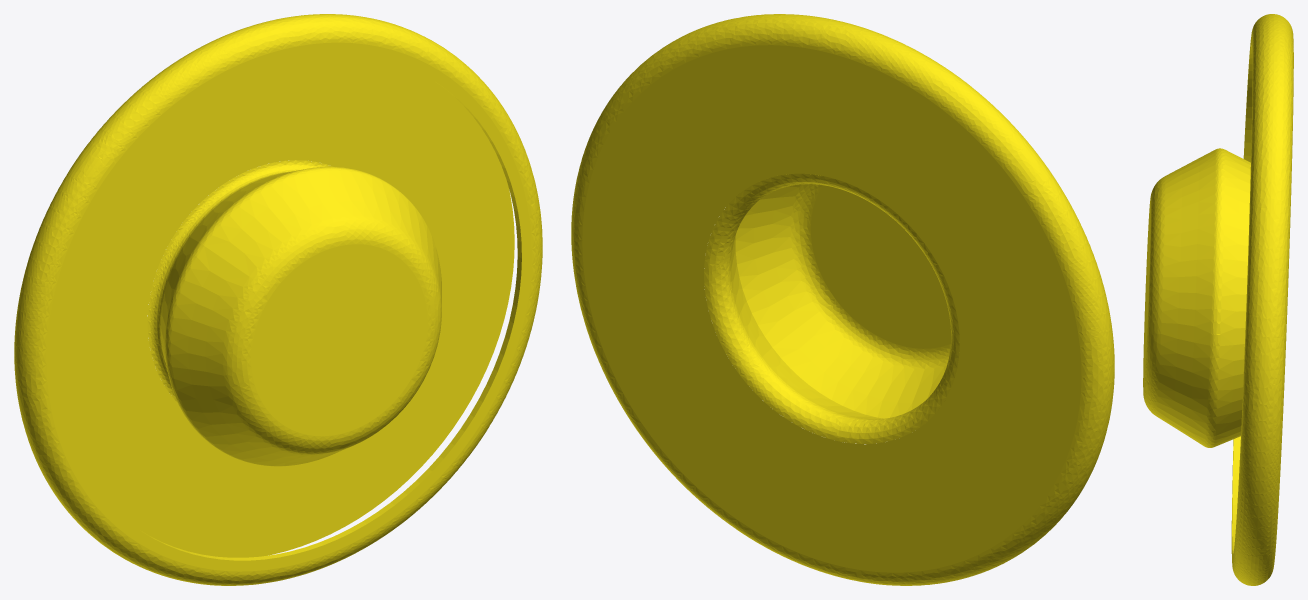
3 views of the same model, side by side, from view 1: azimuth 30°, elevation 25°; view 2: azimuth 150°, elevation 25°; view 3: azimuth 270°, elevation 25° (orthographic). The views are drawn at different scales.
Visible parts, largest first — view 1: 10233528; view 2: 10233528; view 3: 10233528.
Part boxes in pixels (box(x1,y1,x2,y2)): 10233528: box(14, 14, 542, 585); 10233528: box(571, 14, 1114, 585); 10233528: box(1143, 14, 1293, 585).
Bounding box in the file's own units: 1 × 0.9987 × 0.2632.
